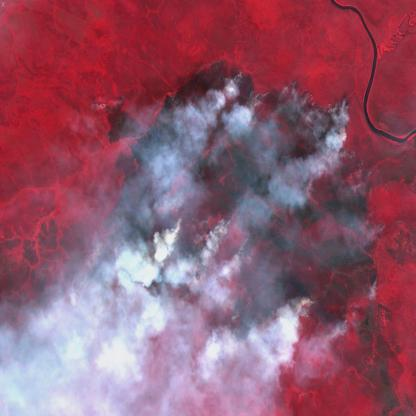fire: (75, 52, 394, 352)
